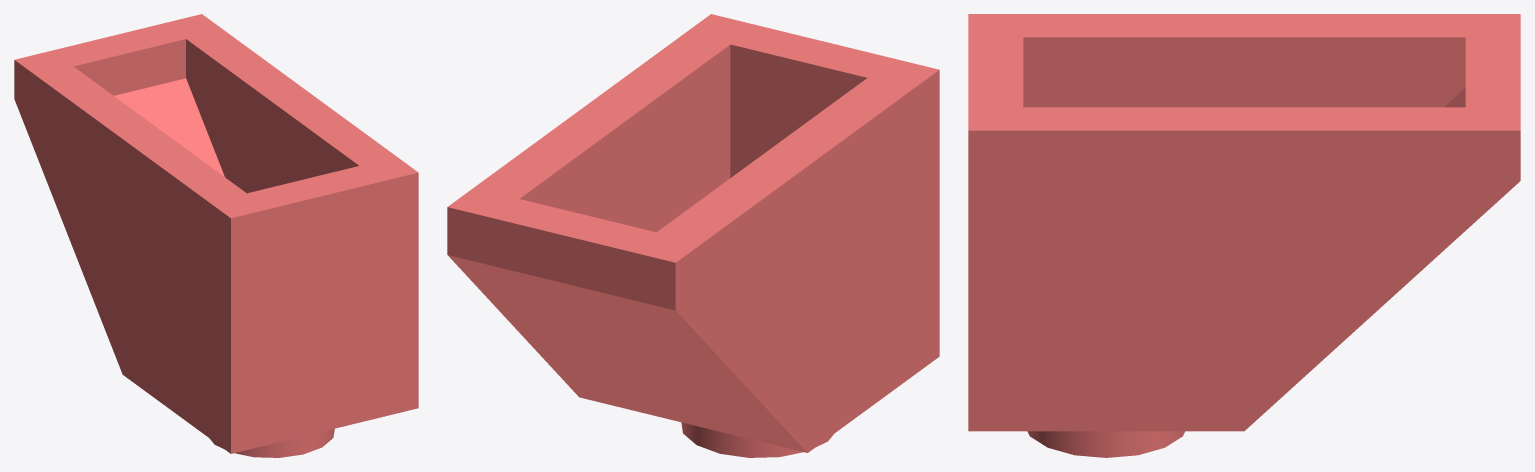
The picture shows the model from 3 angles, left to right: view 1: azimuth 30°, elevation 25°; view 2: azimuth 150°, elevation 25°; view 3: azimuth 270°, elevation 25°; orthographic projection. The views are drawn at different scales.
Parts seen in each view (by area): view 1: LDrawPart; view 2: LDrawPart; view 3: LDrawPart.
Part boxes in pixels (bbox=[...]): LDrawPart: bbox=[14, 14, 418, 457]; LDrawPart: bbox=[447, 14, 939, 457]; LDrawPart: bbox=[968, 14, 1520, 457].
Bounding box in the file's own units: 0.14 × 0.196 × 0.28.
